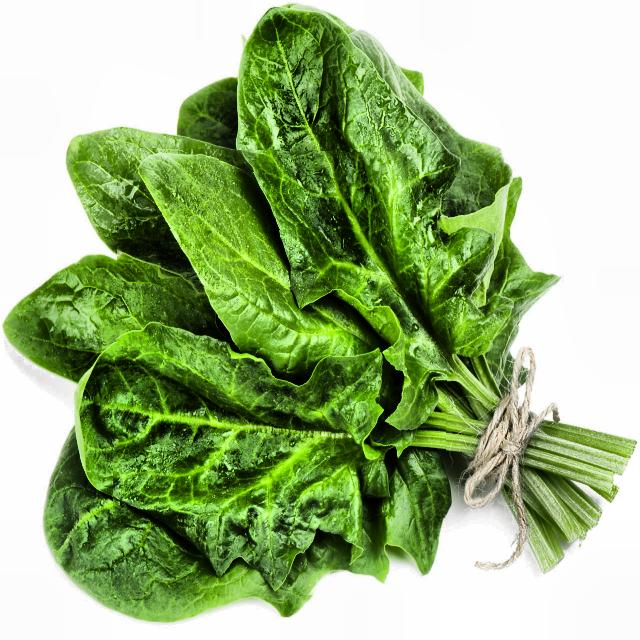spinach: (113, 150, 494, 597)
